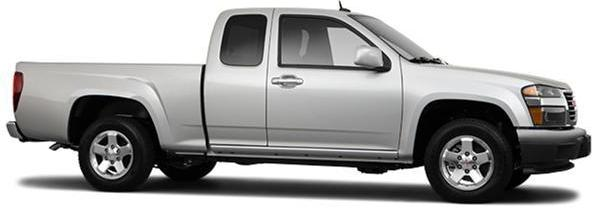backlight: (0, 60, 40, 128)
headlight: (520, 88, 570, 140)
side_glass: (225, 10, 391, 82)
